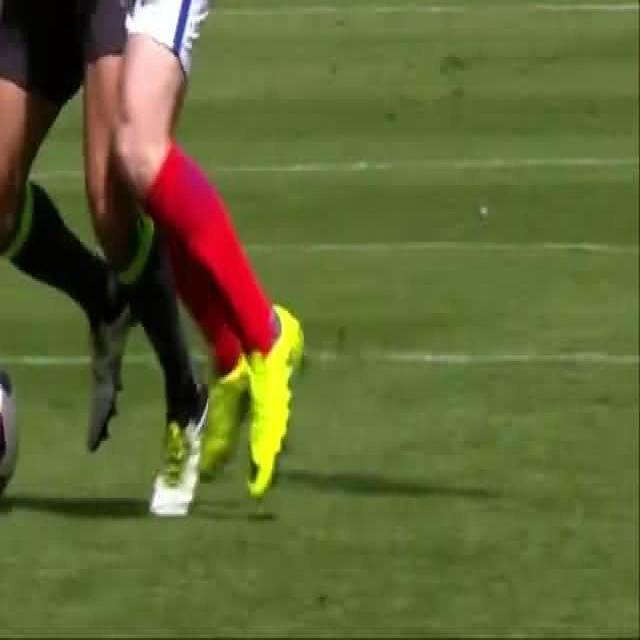ball: (0, 347, 18, 510)
player-white: (19, 0, 306, 500), (0, 0, 207, 528)
